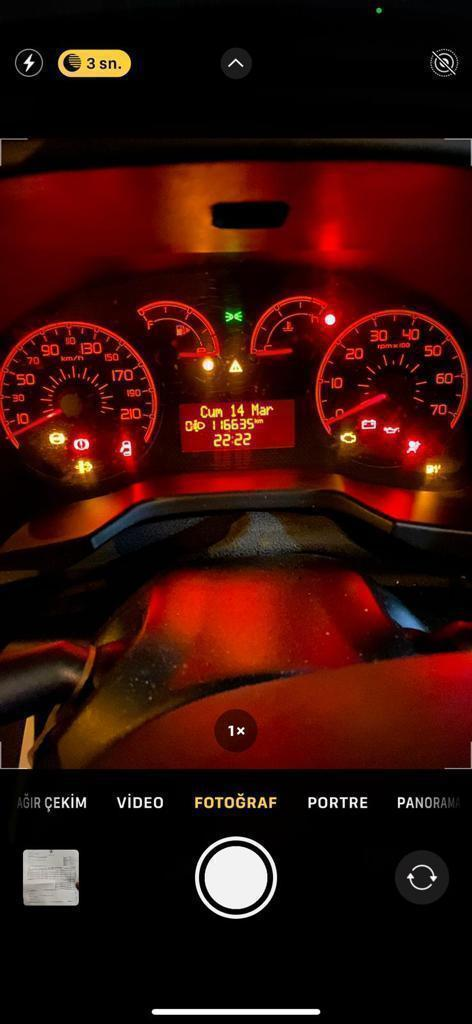0: (184, 420, 192, 431)
1: (230, 403, 236, 417), (212, 419, 216, 430), (219, 419, 223, 430)
2: (233, 432, 242, 446), (242, 432, 251, 445), (213, 433, 221, 447), (222, 433, 230, 446)
3: (239, 418, 246, 429)
4: (236, 403, 244, 416)
5: (246, 418, 254, 429)
6: (223, 418, 231, 430), (231, 418, 238, 430)
X: (199, 405, 208, 418), (251, 402, 259, 416), (215, 407, 223, 417), (265, 405, 273, 415), (258, 405, 266, 415), (208, 407, 215, 417), (257, 418, 263, 423), (254, 417, 257, 424), (231, 435, 233, 444)
odometer: (176, 398, 296, 453)
